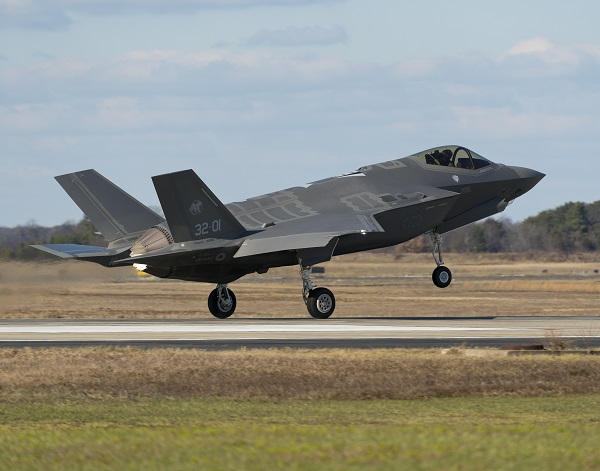F35: (30, 141, 547, 320)
